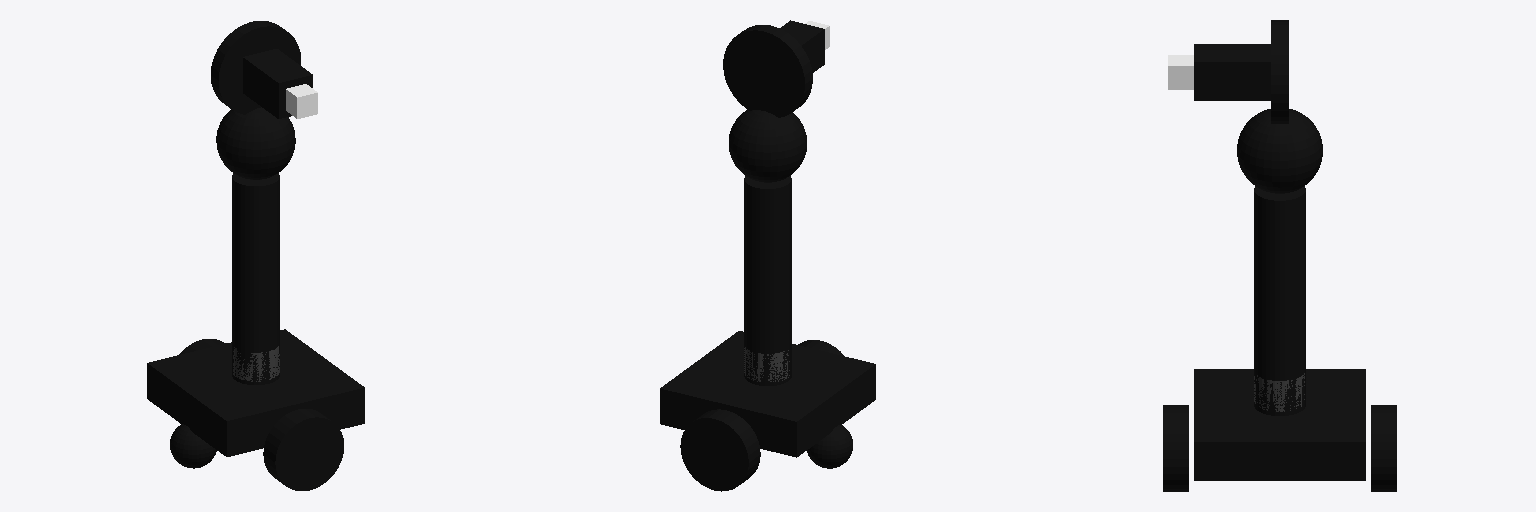
URDF robot description (three_link_robot):
<?xml version="1.0"?>
<robot name="three_link_robot">

  <link name="base_link">
    <visual>
      <geometry>
        <box size="0.2 0.2 0.05"/>
      </geometry>
      <material name="Black">
        <color rgba="0.1 0.1 0.1 1"/>
      </material>
    </visual>
    <collision>
      <geometry>
        <box size="0.2 0.2 0.05"/>
      </geometry>
      <origin xyz="0 0 0" rpy="0 0 0"/>
    </collision>
    <inertial>
      <mass value="6.0"/>
      <origin xyz="0 0 0" rpy="0 0 0"/>
      <inertia ixx="0.001" ixy="0.0" ixz="0.0"
               iyy="0.001" iyz="0.0"
               izz="0.001"/>
    </inertial>
  </link>

  <link name="link1">
    <visual>
      <geometry>
        <cylinder radius="0.03" length="0.3"/>
      </geometry>
      <material name="Black">
        <color rgba="0.1 0.1 0.1 1"/>

      </material>
    </visual>
    <collision>
      <geometry>
        <cylinder radius="0.03" length="0.3"/>
      </geometry>
      <origin xyz="0 0 0" rpy="0 0 0"/>
    </collision>
    <inertial>
      <mass value="1.0"/>
      <origin xyz="0 0 0" rpy="0 0 0"/>
      <inertia ixx="0.001" ixy="0.0" ixz="0.0"
               iyy="0.001" iyz="0.0"
               izz="0.001"/>
    </inertial>
  </link>

  <joint name="base_to_link1" type="fixed">
    <parent link="base_link"/>
    <child link="link1"/>
    <origin xyz="0 0 0.15" rpy="0 0 0"/>
  </joint>

  <link name="link2">
    <visual>
      <geometry>
        <sphere radius="0.05"/>
      </geometry>
      <material name="Black">
        <color rgba="0.1 0.1 0.1 1"/>
      </material>
    </visual>
    <collision>
      <geometry>
        <sphere radius="0.05"/>
      </geometry>
      <origin xyz="0 0 0" rpy="0 0 0"/>
    </collision>
    <inertial>
      <mass value="1.0"/>
      <origin xyz="0 0 0" rpy="0 0 0"/>
      <inertia ixx="0.001" ixy="0.0" ixz="0.0"
               iyy="0.001" iyz="0.0"
               izz="0.001"/>
    </inertial>
  </link>

<link name="lidar_link">
 <visual>

  <geometry>
   <cylinder radius="0.03" length="0.04"/>
  </geometry>

  <material name="grey">
   <color rgba="0.3 0.3 0.3 1"/>
  </material>

  </visual>

 <collision>
 
  <geometry>
   <cylinder radius="0.03" length="0.04"/>
  </geometry>

 <origin xyz="0 0 0" rpy="0 0 0"/>

 </collision>

  <inertial>
   <mass value="0.1"/>
   <origin xyz="0 0 0"/>
   <inertia ixx="0.0001" ixy="0.0" ixz="0.0" iyy="0.0001" iyz="0.0" izz="0.0001"/>
  </inertial>

</link>

 <joint name="base_to_lidar" type="fixed">
  <parent link="base_link"/>
  <child link="lidar_link"/>
  <origin xyz="0 0 0.05" rpy="0 0 0"/>
 </joint>

<gazebo reference="lidar_link">
  <sensor type="ray" name="lidar_sensor">
    <update_rate>10</update_rate>
    <ray>
      <scan>
        <horizontal>
          <samples>360</samples>
          <resolution>1</resolution>
          <min_angle>-3.14159</min_angle>
          <max_angle>3.14159</max_angle>
        </horizontal>
      </scan>
      <range>
        <min>0.12</min>
        <max>10.0</max>
        <resolution>0.01</resolution>
      </range>
    </ray>
    <plugin name="lidar_plugin" filename="libgazebo_ros_ray_sensor.so">
      <ros>
        <namespace>/</namespace>
        <remapping>~/out:=scan</remapping>
      </ros>
      <output_type>sensor_msgs/LaserScan</output_type>
      <frame_name>lidar_link</frame_name>
    </plugin>
  </sensor>
</gazebo>

  <link name="wheel">
    <visual>
      <geometry>
        <cylinder radius="0.06" length="0.02"/>
      </geometry>
      <material name="Black">
        <color rgba="0.1 0.1 0.1 1"/>
      </material>
    </visual>
    <collision>
      <geometry>
        <cylinder radius="0.06" length="0.02"/>
      </geometry>
      <origin xyz="0 0 0" rpy="0 0 0"/>
    </collision>
    <inertial>
      <mass value="1.0"/>
      <origin xyz="0 0 0" rpy="0 0 0"/>
      <inertia ixx="0.001" ixy="0.0" ixz="0.0"
               iyy="0.001" iyz="0.0"
               izz="0.001"/>
    </inertial>
  </link>

  <link name="lift">
    <visual>
      <geometry>
        <box size="0.05 0.05 0.1"/>
      </geometry>
      <material name="Black">
        <color rgba="0.1 0.1 0.1 1"/>
      </material>
    </visual>
  
 <collision>

      <geometry>
        <box size="0.05 0.05 0.1"/>
      </geometry>
     
    <origin xyz="0 0 0" rpy="0 0 0"/>
   
 </collision>

    <inertial>
      <mass value="1.0"/>
      <origin xyz="0 0 0" rpy="0 0 0"/>
      <inertia ixx="0.001" ixy="0.0" ixz="0.0"
               iyy="0.001" iyz="0.0"
               izz="0.001"/>
    </inertial>

  </link>


<link name="camera_link">
 <visual>

  <geometry>
   <box size="0.03 0.03 0.03"/>
  </geometry>

  <material name="white">
   <color rgba="1 1 1 1"/>
  </material>

  </visual>

  <collision>

   <geometry>
    <box size="0.03 0.03 0.03"/>
   </geometry>

   <origin xyz="0 0 0" rpy="0 0 0"/>

  </collision>

  <inertial>
   <mass value="0.05"/>
   <origin xyz="0 0 0" rpy="0 0 0"/>
   <inertia ixx="0.0001" ixy="0.0" ixz="0.0" iyy="0.0001" iyz="0.0" izz="0.0001"/>
  </inertial>
</link>

<joint name="lift_to_camera" type="fixed">

 <parent link="lift"/>
 <child link="camera_link"/>

 <origin xyz="0 0 0.065" rpy="0 0 0"/>

</joint>

<gazebo reference="camera_link">
  <sensor type="camera" name="camera_sensor">
    <update_rate>30.0</update_rate>
    <camera>
      <horizontal_fov>1.3962634</horizontal_fov>
      <image>
        <width>640</width>
        <height>480</height>
        <format>R8G8B8</format>
      </image>
      <clip>
        <near>0.02</near>
        <far>300</far>
      </clip>
    </camera>
    <plugin name="camera_plugin" filename="libgazebo_ros_camera.so">
      <ros>
        <namespace>/camera</namespace>
      </ros>
      <camera_name>camera</camera_name>
      <frame_name>camera_link</frame_name>
    </plugin>
  </sensor>
</gazebo>

<link name="imu_link">
 <visual>
  <geometry>
   <box size="0.03 0.03 0.01"/>
  </geometry>
 </visual>
 <collision>
  <geometry>
   <box size="0.03 0.03 0.01"/>
  </geometry>
 </collision>
 <inertial>
  <mass value="0.05"/>
  <origin xyz="0 0 0" rpy="0 0 0"/>
  <inertia
      ixx="0.00001"
      ixy="0"
      ixz="0"
      iyy="0.00001"
      iyz="0"
      izz="0.00001"/>
 </inertial>
</link>
<joint name="base_to_imu" type="fixed">
 <parent link="base_link"/>
 <child link="imu_link"/>
 <origin xyz="0 0 0.04" rpy="0 0 0"/>
</joint>
<gazebo reference="imu_link">
  <sensor name="imu_sensor" type="imu">
    <always_on>true</always_on>
    <update_rate>100</update_rate>
    <plugin
      filename="libgazebo_ros_imu_sensor.so"
      name="imu_plugin">
      <ros>
        <namespace>/</namespace>
        <remapping>~/out:=imu</remapping>
      </ros>
      <frame_name>imu_link</frame_name>
    </plugin>
  </sensor>
</gazebo>

<link name="right_wheel">
  <visual>
    <geometry>
      <cylinder radius="0.05" length="0.03"/>
    </geometry>
    <material name="Black"><color rgba="0.1 0.1 0.1 1"/></material>
  </visual>
  <collision>
    <geometry>
      <cylinder radius="0.05" length="0.03"/>
    </geometry>
    <origin xyz="0 0 0" rpy="0 0 0"/>
  </collision>
  <inertial>
    <mass value="0.5"/>
    <origin xyz="0 0 0" rpy="0 0 0"/>
    <inertia ixx="0.0005" ixy="0.0" ixz="0.0" iyy="0.0005" iyz="0.0" izz="0.0005"/>
  </inertial>
</link>

<joint name="base_to_right_wheel" type="continuous">
  <parent link="base_link"/>
  <child link="right_wheel"/>
  <origin xyz="0 -0.12 -0.03" rpy="1.5708 0 0"/>
  <axis xyz="0 0 1"/>
</joint>

<link name="left_wheel">

 <visual>

  <geometry>
   <cylinder radius="0.05" length="0.03"/>
  </geometry>

 <origin xyz="0 0 0" rpy="0 0 0"/>

  <material name="Black"><color rgba="0.1 0.1 0.1 1"/></material>
 </visual>
 
  <collision>
 
   <geometry>
      <cylinder radius="0.05" length="0.03"/>
   </geometry>
    <origin xyz="0 0 0" rpy="0 0 0"/>

  </collision>

  <inertial>

    <mass value="0.5"/>
    <origin xyz="0 0 0" rpy="0 0 0"/>
    <inertia ixx="0.0005" ixy="0.0" ixz="0.0" iyy="0.0005" iyz="0.0" izz="0.0005"/>

  </inertial>

<link name="caster_wheel_front">
  <visual>
    <geometry>
      <sphere radius="0.03"/>
    </geometry>
    <material name="Black">
      <color rgba="0.1 0.1 0.1 1"/>
    </material>
  </visual>
  <collision>
    <geometry>
      <sphere radius="0.03"/>
    </geometry>
  </collision>
  <inertial>
    <mass value="0.2"/>
    <origin xyz="0 0 0"/>
    <inertia ixx="0.0001" ixy="0" ixz="0" iyy="0.0001" iyz="0" izz="0.0001"/>
  </inertial>
</link>
<joint name="base_to_caster_front" type="fixed">
  <parent link="base_link"/>
  <child link="caster_wheel_front"/>
  <origin xyz="0.09 0 -0.05"/>
</joint>

</link>		

<link name="caster_wheel">

  <visual>
    <geometry>
      <sphere radius="0.03"/>
    </geometry>

    <material name="Black">
      <color rgba="0.1 0.1 0.1 1"/>
    </material>

  </visual>

  <collision>
    <geometry>
      <sphere radius="0.03"/>
    </geometry>
  </collision>

  <inertial>
    <mass value="0.2"/>
    <origin xyz="0 0 0"/>
    <inertia
      ixx="0.0001"
      ixy="0"
      ixz="0"
      iyy="0.0001"
      iyz="0"
      izz="0.0001"/>
  </inertial>

</link>

<joint name="base_to_caster" type="fixed">

  <parent link="base_link"/>
  <child link="caster_wheel"/>

  <origin xyz="-0.09 0 -0.05"/>

</joint>

<joint name="base_to_left_wheel" type="continuous">
  
  <parent link="base_link"/>
  <child link="left_wheel"/>
  <origin xyz="0 0.12 -0.03" rpy="1.5708 0 0"/>
  <axis xyz="0 0 1"/>
 
</joint>

  <joint name="wheel_to_lift" type="prismatic">
    <parent link="wheel"/>
    <child link="lift"/>
    <origin xyz="0 0 0.05" rpy="0 0 0"/>
    <axis xyz="0 0 1"/>
    <limit lower="0.0" upper="0.1" effort="10" velocity="0.5"/>
  </joint>

  <joint name="link1_to_link2" type="revolute">
    <parent link="link1"/>
    <child link="link2"/>
    <origin xyz="0 0 0.2" rpy="0 0 0"/>
    <axis xyz="0 1 0"/>
    <limit lower="-1.57" upper="1.57" effort="10" velocity="1.0"/>
  </joint>

  <joint name="link2_to_wheel" type="continuous">
    <parent link="link2"/>
    <child link="wheel"/>
    <origin xyz="0 0 0.1" rpy="1.5708 0 0"/>
    <axis xyz="0 0 1"/>
  </joint>

<ros2_control name="three_link_system" type="system">
  <hardware>
    <plugin>gazebo_ros2_control/GazeboSystem</plugin>
  </hardware>
  <joint name="link1_to_link2">
    <command_interface name="position"/>
    <state_interface name="position"/>
    <state_interface name="velocity"/>
  </joint>
  <joint name="link2_to_wheel">
    <command_interface name="velocity"/>
    <state_interface name="position"/>
    <state_interface name="velocity"/>
  </joint>
  <joint name="wheel_to_lift">
    <command_interface name="position"/>
    <state_interface name="position"/>
    <state_interface name="velocity"/>
  </joint>
   <joint name="base_to_left_wheel">
     <command_interface name="velocity"/>
     <state_interface name="position"/>
     <state_interface name="velocity"/>
   </joint>
   <joint name="base_to_right_wheel">
     <command_interface name="velocity"/>
     <state_interface name="position"/>
     <state_interface name="velocity"/>
    </joint>

</ros2_control>

<gazebo reference="base_link">
  <material>Gazebo/Grey</material>
  <mu1>0.8</mu1>
  <mu2>0.8</mu2>

</gazebo>

<gazebo reference="link1">
  <material>Gazebo/Grey</material>
  <mu1>0.8</mu1>
  <mu2>0.8</mu2>

</gazebo>

<gazebo reference="link2">
  <material>Gazebo/Grey</material>
  <mu1>0.8</mu1>
  <mu2>0.8</mu2>

</gazebo>

<gazebo reference="wheel">
  <material>Gazebo/Grey</material>
  <mu1>0.8</mu1>
  <mu2>0.8</mu2>
</gazebo>

<gazebo reference="lift">
  <material>Gazebo/Grey</material>
  <mu1>0.8</mu1>
  <mu2>0.8</mu2>

</gazebo>

<gazebo>
  <plugin name="gazebo_ros2_control" filename="libgazebo_ros2_control.so">
    <parameters>/home/sasllab/ros2_ws/src/my_first_pkg/config/controllers.yaml</parameters>
  </plugin>
</gazebo>

</robot>

--- Render facts (derived) ---
The picture shows the robot from 3 angles, left to right: view 1: azimuth 30°, elevation 25°; view 2: azimuth 150°, elevation 25°; view 3: azimuth 270°, elevation 25°; orthographic projection.
Model three_link_robot with 11 links and 10 joints (1 revolute, 3 continuous, 1 prismatic, 5 fixed), rooted at base_link, posed all joints at 0.
Visible links, largest first — view 1: base_link, link1, right_wheel, link2, wheel, lift, caster_wheel, camera_link, lidar_link; view 2: base_link, link1, wheel, left_wheel, link2, caster_wheel, lift, lidar_link; view 3: base_link, link1, link2, lift, right_wheel, left_wheel, wheel, camera_link, lidar_link.
Boxes of the visible links, x1,y1,x2,y2 form: base_link: (147,329,364,456); link1: (232,173,279,384); right_wheel: (263,409,343,490); link2: (216,107,295,179); wheel: (211,21,300,114); lift: (243,49,312,118); caster_wheel: (170,424,216,468); camera_link: (286,84,317,118); lidar_link: (233,346,279,381); base_link: (660,331,875,457); link1: (744,176,791,385); wheel: (723,25,812,117); left_wheel: (680,409,760,491); link2: (729,110,806,182); caster_wheel: (807,425,852,468); lift: (780,20,824,72); lidar_link: (744,347,789,381); base_link: (1194,369,1365,480); link1: (1254,186,1305,415); link2: (1237,109,1322,193); lift: (1194,44,1270,100); right_wheel: (1163,405,1188,491); left_wheel: (1371,405,1396,491); wheel: (1271,20,1288,123); camera_link: (1168,55,1193,89); lidar_link: (1254,373,1304,411).
Size in the robot's own frame: 0.22 by 0.27 by 0.59 metres.
Geometry: primitives only (box / cylinder / sphere), no mesh files.
